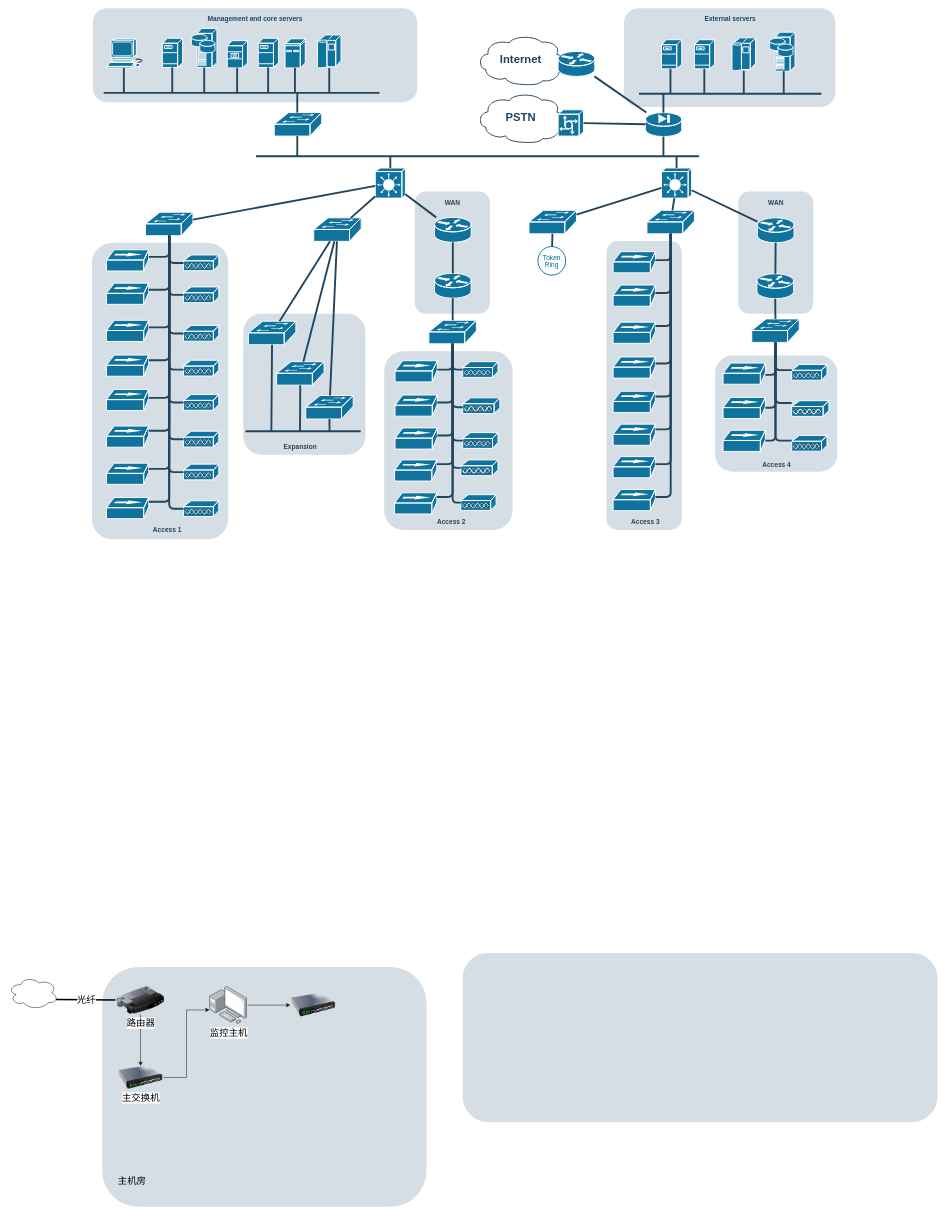
This 946x1214 diagram has some shape labels left out. The centre of each missing label's shape, as x and y in pixels:
"1楼" goes at point (699, 1037).
"监控交换机" goes at point (313, 1005).
"运营商" goes at point (33, 992).
